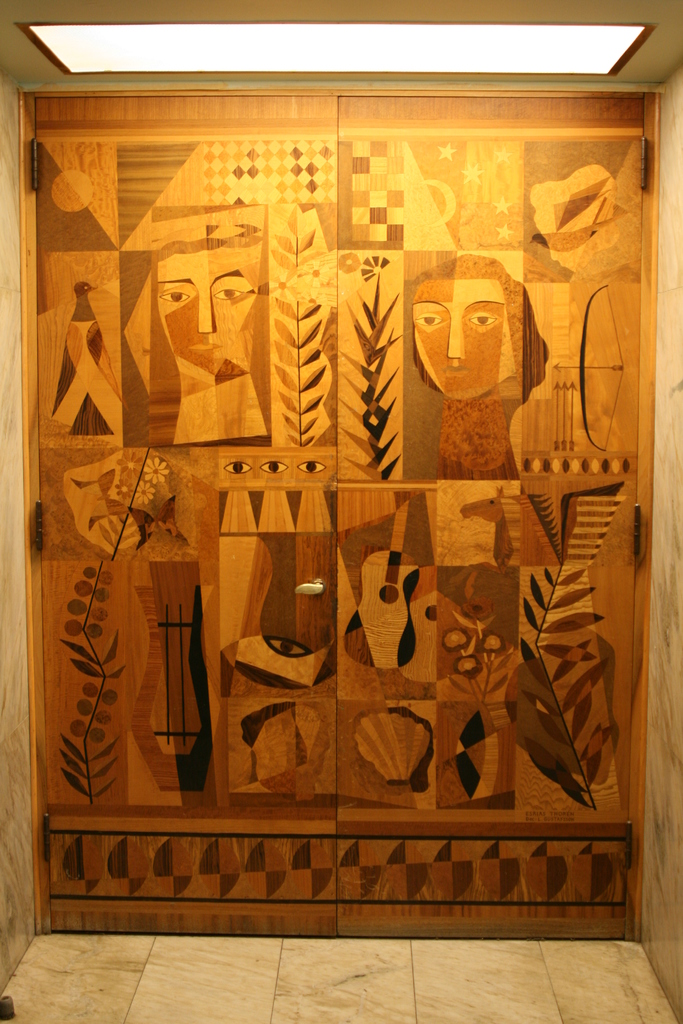door: (30, 119, 337, 930), (338, 119, 638, 937)
